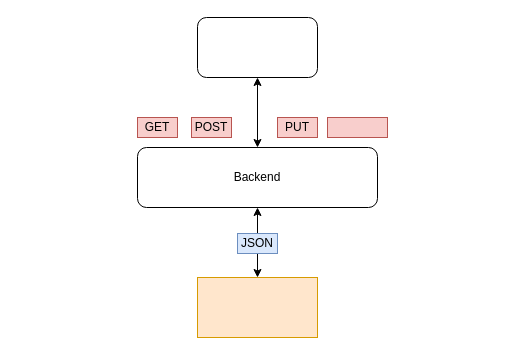
This 514x355 diagram has some shape labels left out. Each missing label, with the centre of its shape:
"Application" goes at pixel 257 47.
"DELETE" goes at pixel 357 127.
"mongoset1 (Primary)" goes at pixel 257 307.
